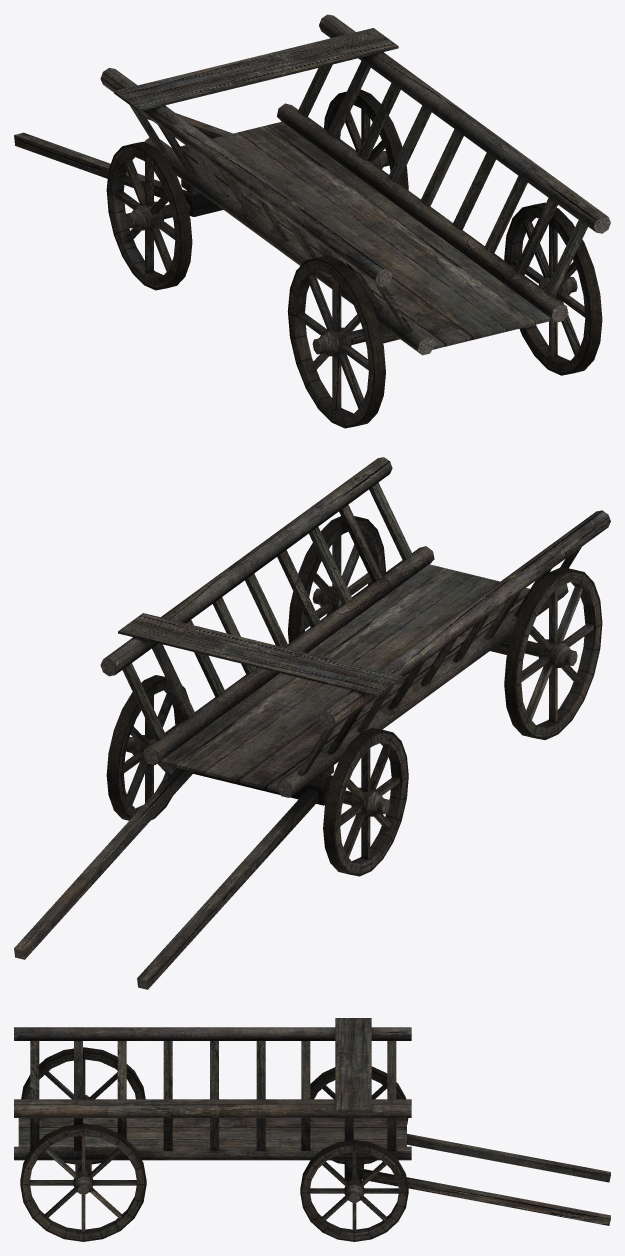
File: Wagon1.fbx
3 renders of one model, top to bottom at view 1: azimuth 30°, elevation 25°; view 2: azimuth 150°, elevation 25°; view 3: azimuth 270°, elevation 25°, orthographic. The views are drawn at different scales.
Parts seen in each view (by area): view 1: Strag3:polySurface2; view 2: Strag3:polySurface2; view 3: Strag3:polySurface2.
Boxes of the visible parts, box(x1,y1,x2,y2) form: Strag3:polySurface2: box(14, 14, 610, 428); Strag3:polySurface2: box(14, 457, 610, 989); Strag3:polySurface2: box(14, 1018, 610, 1241).
Size of the model in its own units: 10.67 by 7.48 by 29.3.
